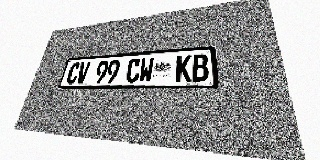9: (93, 60, 109, 84), (105, 60, 121, 83)
B: (192, 53, 209, 82)
C: (125, 58, 141, 83), (65, 62, 81, 84)
K: (176, 55, 191, 82)
V: (75, 62, 91, 84)
W: (138, 57, 154, 83)
